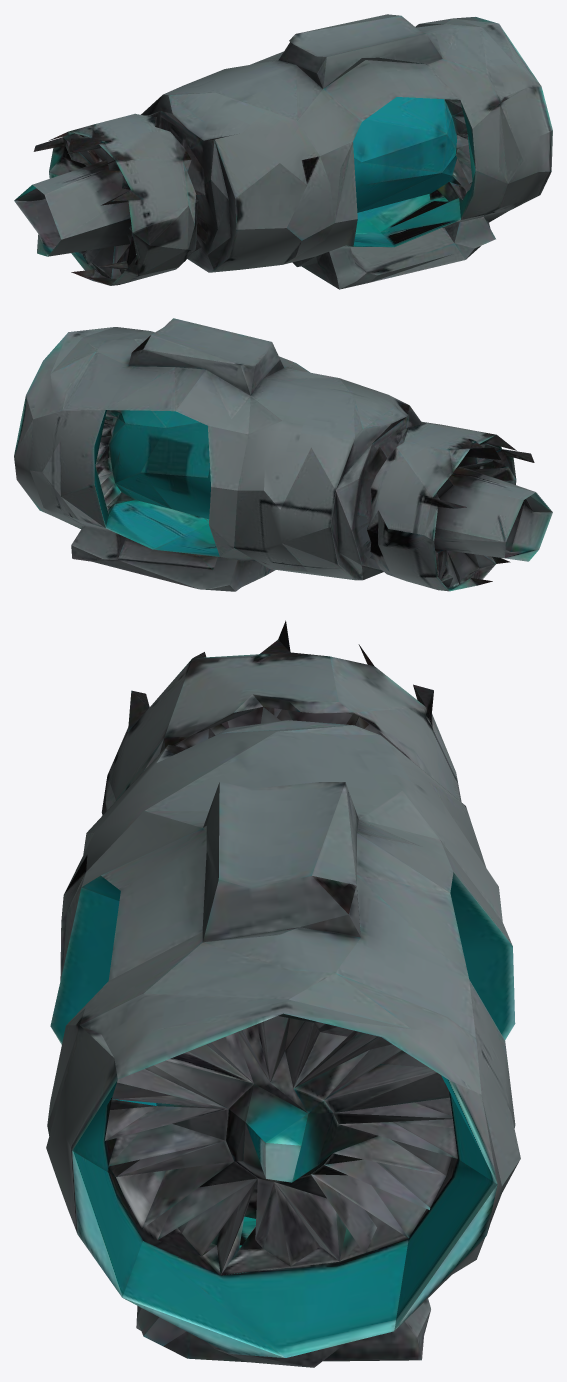
File: module-engine.glb
The picture shows the model from 3 angles, top to bottom: view 1: azimuth 30°, elevation 25°; view 2: azimuth 150°, elevation 25°; view 3: azimuth 270°, elevation 25°; orthographic projection. The views are drawn at different scales.
Size of the model in its own units: 1.9 by 0.8522 by 0.845.
1 material, 1 textured.
